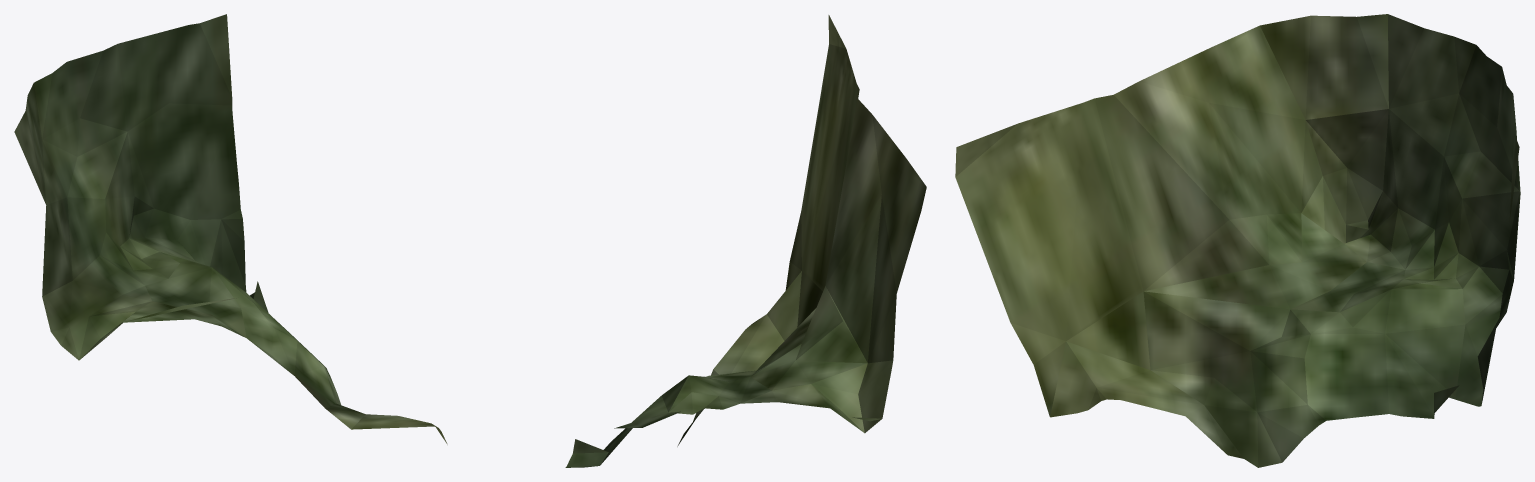
The picture shows the model from 3 angles, left to right: view 1: azimuth 30°, elevation 25°; view 2: azimuth 150°, elevation 25°; view 3: azimuth 270°, elevation 25°; orthographic projection. The views are drawn at different scales.
Bounding box in the file's own units: 1.12 × 1.25 × 2.
1 material, 1 textured.
